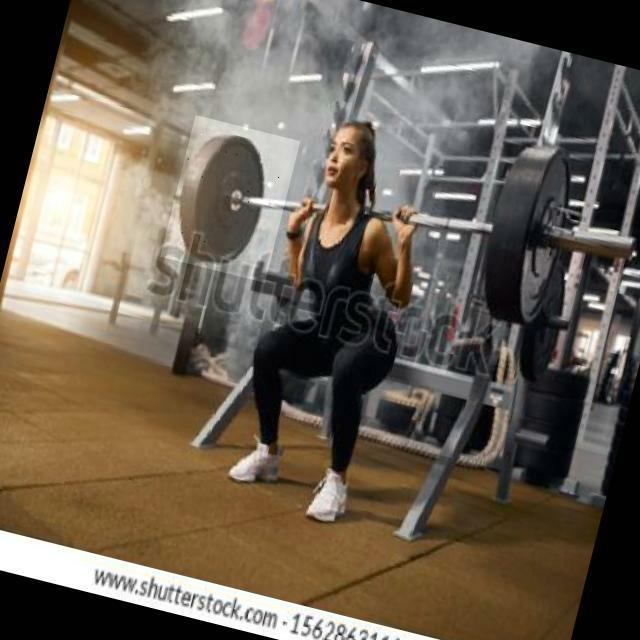barbell: (161, 116, 301, 283)
